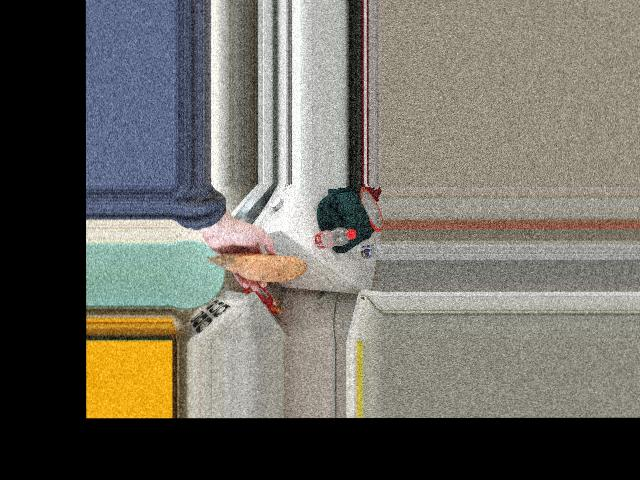sweet_potato: (212, 250, 298, 276)
